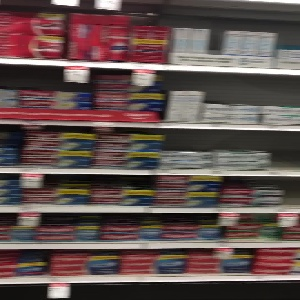void: (273, 134, 300, 169)
